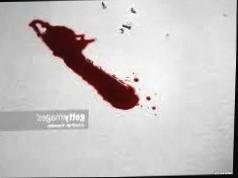Fire: (28, 19, 141, 110)
